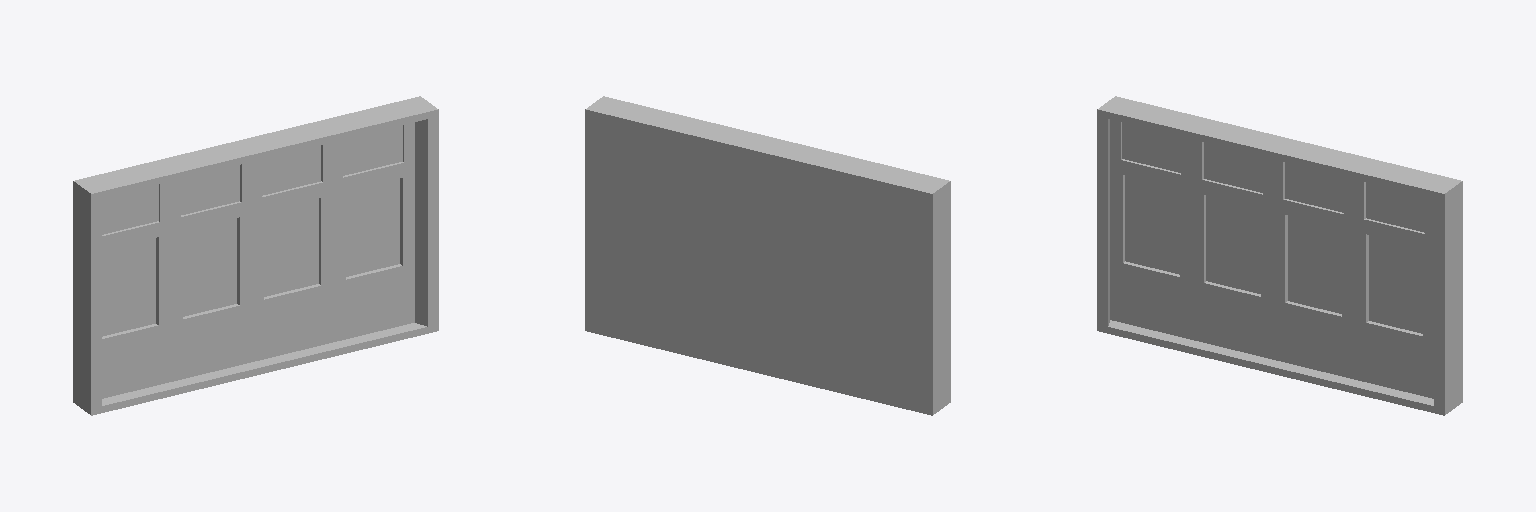
File: Puzzle Board.obj
The picture shows the model from 3 angles: view 1: azimuth 30°, elevation 25°; view 2: azimuth 150°, elevation 25°; view 3: azimuth 330°, elevation 25°; orthographic projection.
Visible parts, largest first — view 1: Cube.001_Cube.022; view 2: Cube.001_Cube.022; view 3: Cube.001_Cube.022.
Part boxes in pixels (bbox=[...]): Cube.001_Cube.022: bbox=[73, 96, 438, 415]; Cube.001_Cube.022: bbox=[585, 96, 950, 415]; Cube.001_Cube.022: bbox=[1097, 96, 1462, 415].
Bounding box in the file's own units: 0.7107 × 0.4339 × 0.064.